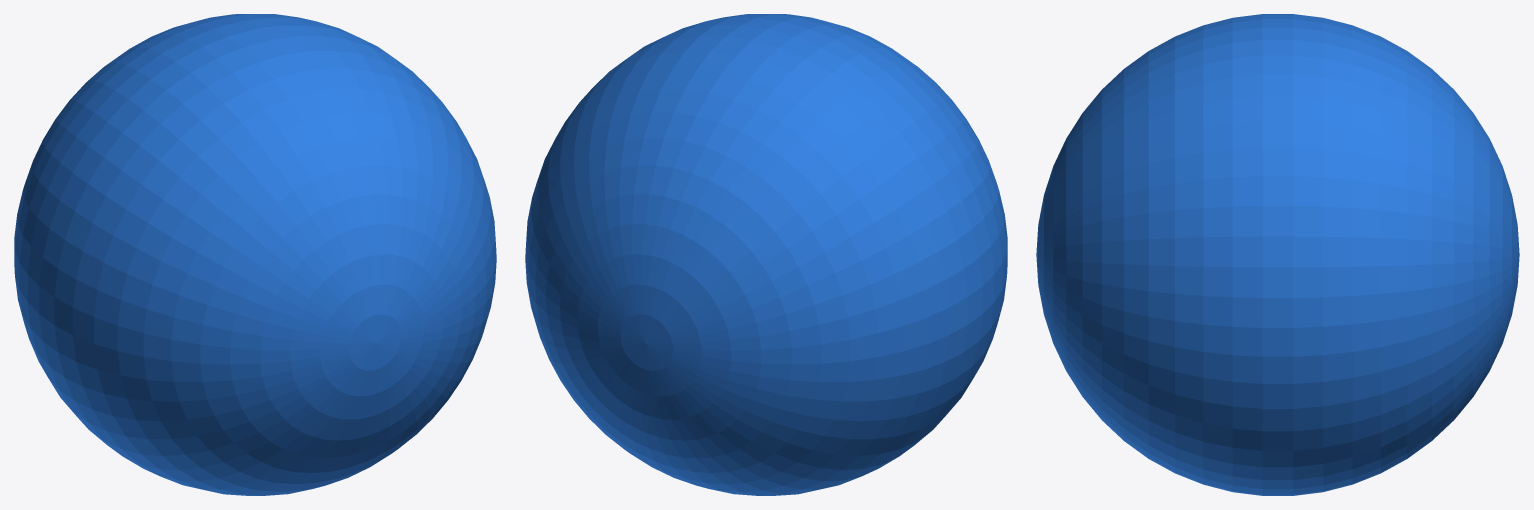
File: blue_ball.dae
The picture shows the model from 3 angles, left to right: view 1: azimuth 30°, elevation 25°; view 2: azimuth 150°, elevation 25°; view 3: azimuth 270°, elevation 25°; orthographic projection.
Visible parts, largest first — view 1: node0; view 2: node0; view 3: node0.
Boxes of the visible parts, x1,y1,x2,y2 form: node0: [14, 14, 496, 495]; node0: [525, 14, 1007, 495]; node0: [1036, 14, 1519, 495].
Bounding box in the file's own units: 0.1894 × 0.19 × 0.1895.
